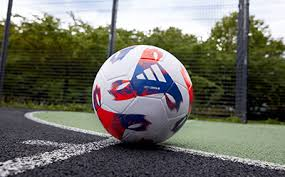football ball: (91, 43, 194, 152)
